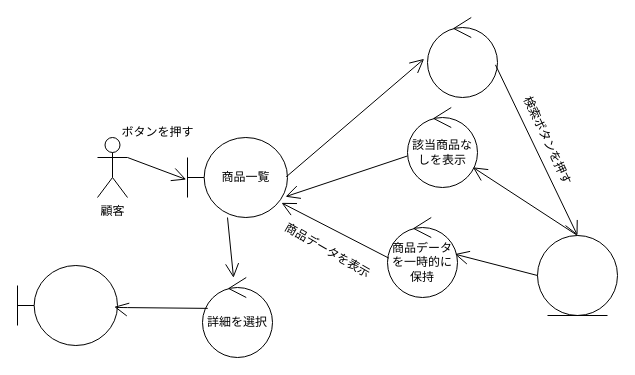
The diagram is 635 pixels wide and 375 high, and some of its shapes have lost their labels. The centre of each missing label's shape, as x and y in pixels:
商品データ: [577,275]
商品詳細画面: [67,305]
検索欄に条件を入力: [462,57]
